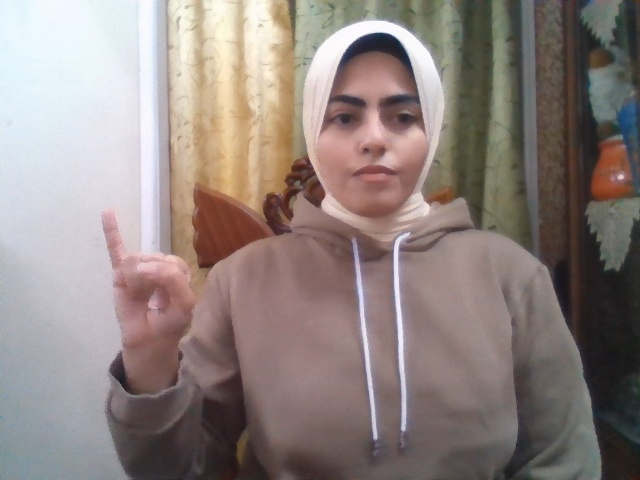I: (100, 208, 193, 349)
